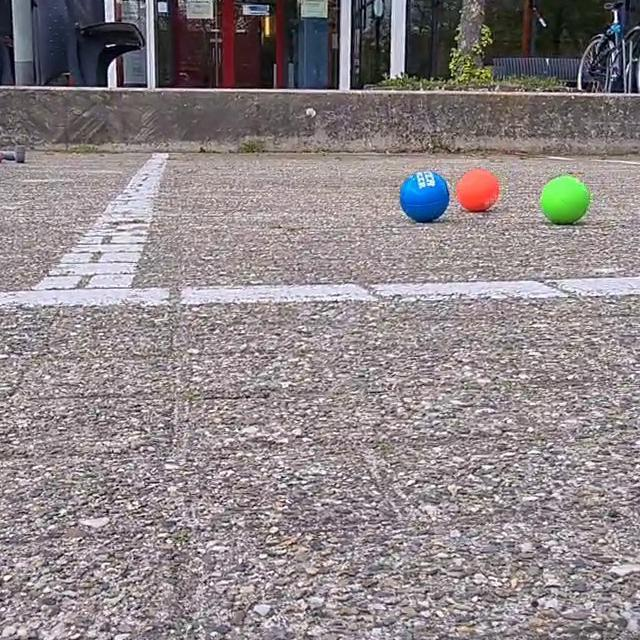ball: (536, 172, 594, 229), (400, 169, 451, 225), (452, 165, 502, 215)
